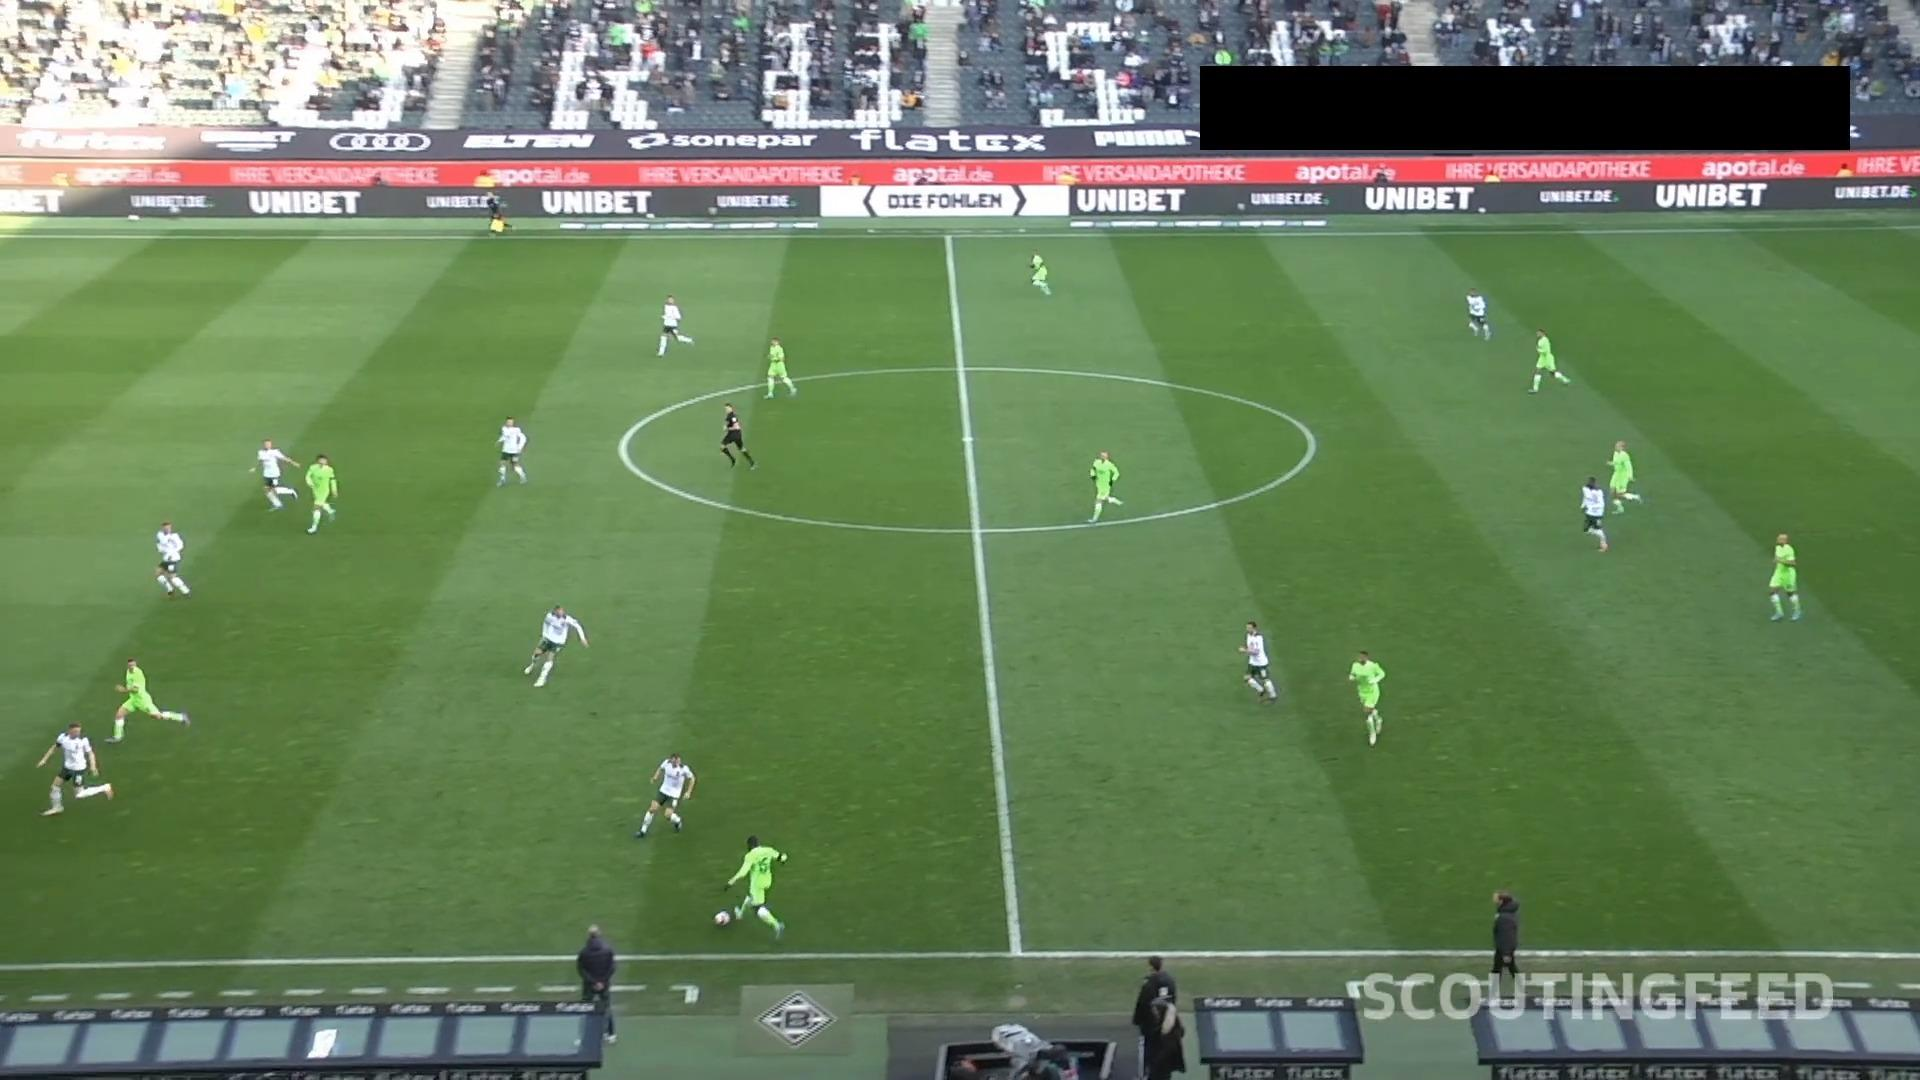ball: (713, 910, 732, 927)
